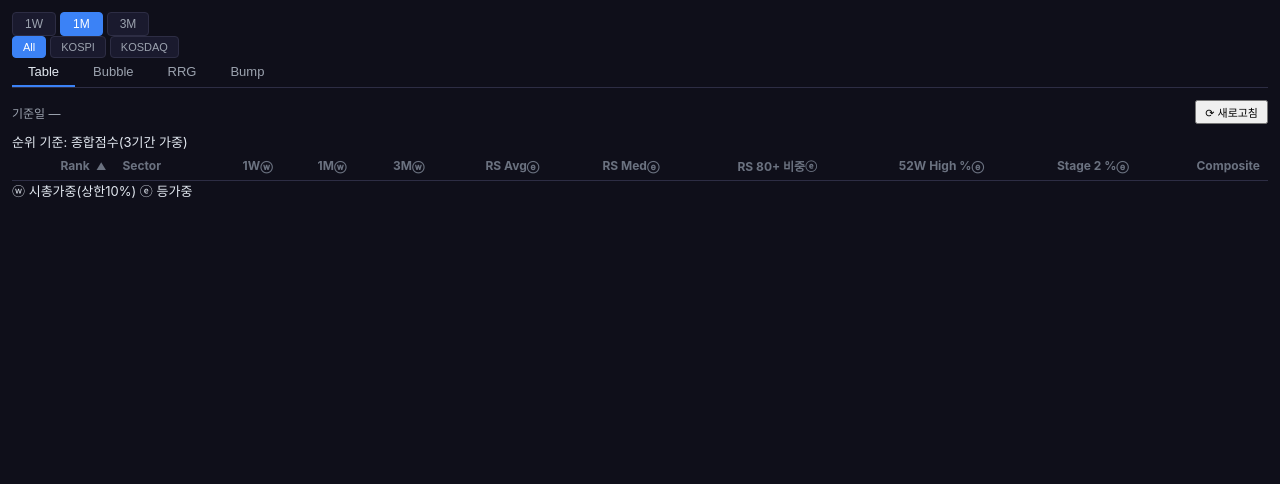
수동 새로고침이 섹터 표·RRG·Bump 를 재조회한다 (감사 F1) › (a) RRG 가 옛 기준일이면 합치 경고 띠의 [새로고침] 이 RRG 를 재조회해 띠가 사라진다
Step 1. Click the button "RRG" → (182, 72), box [152,58,212,87]
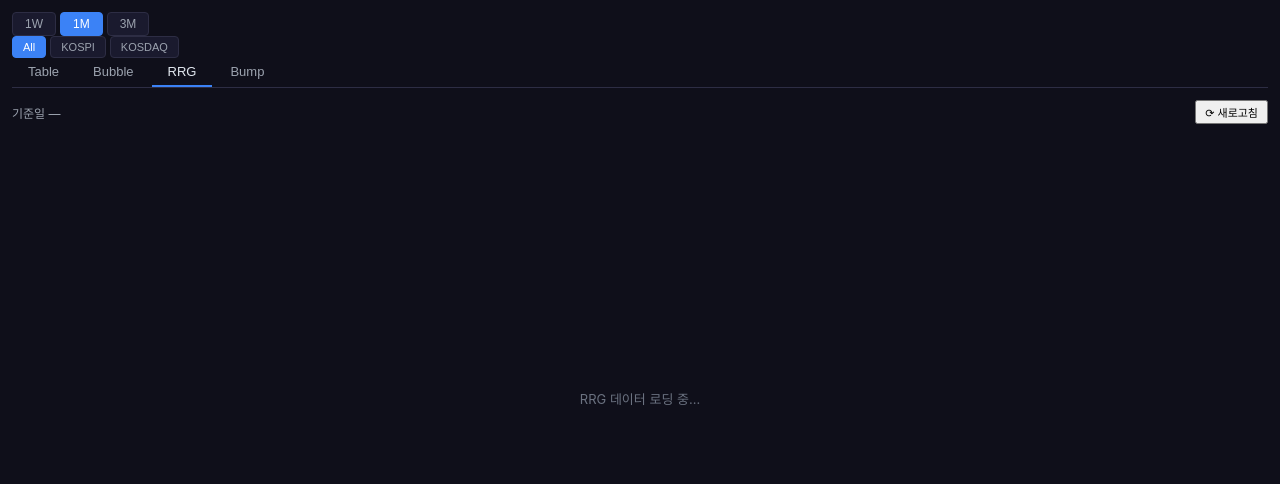
Step 2. Click the button "Bump" → (248, 72), box [214,58,280,87]
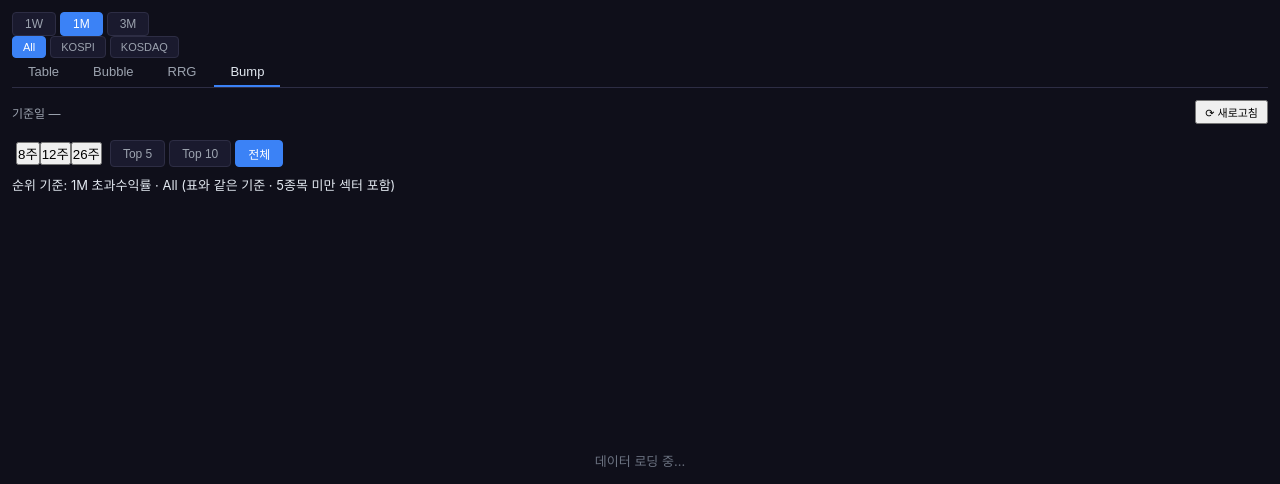
Step 3. Click the button "Table" → (44, 72), box [12,58,75,87]
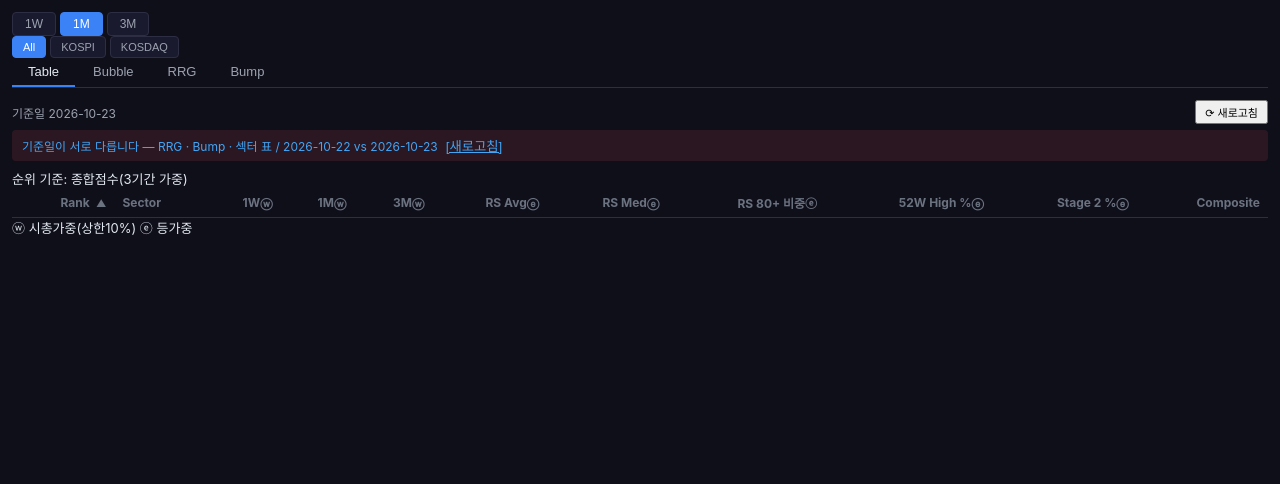
Result: the message with test id "asof-conflict-banner" shows "RRG" at [158,139,272,154]
Step 4. Click the button with test id "asof-conflict-refresh" → (474, 146), box [446,136,502,155]
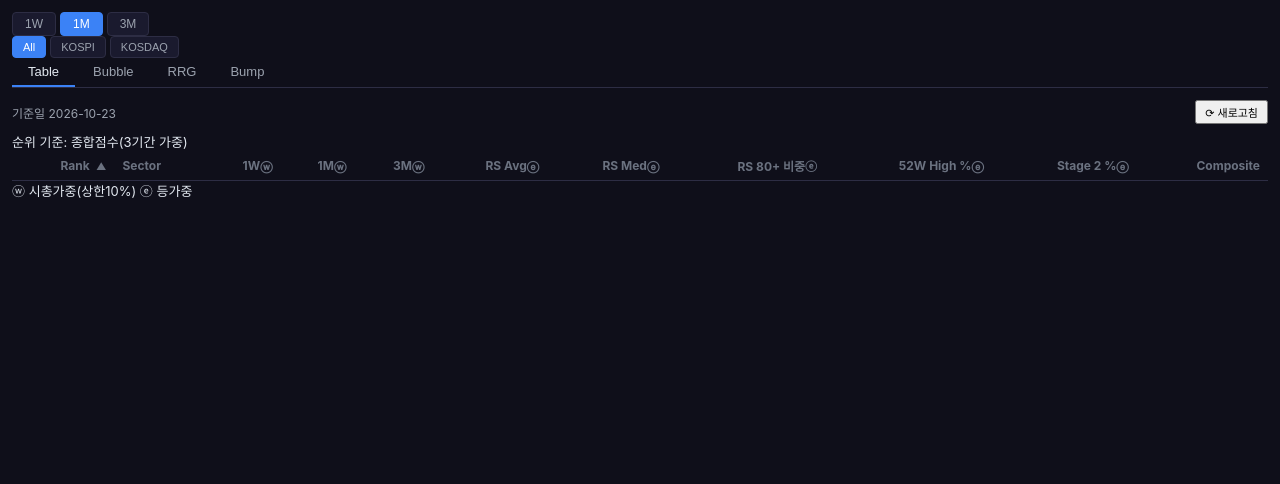
Result: the message with test id "asof-conflict-banner" is gone
